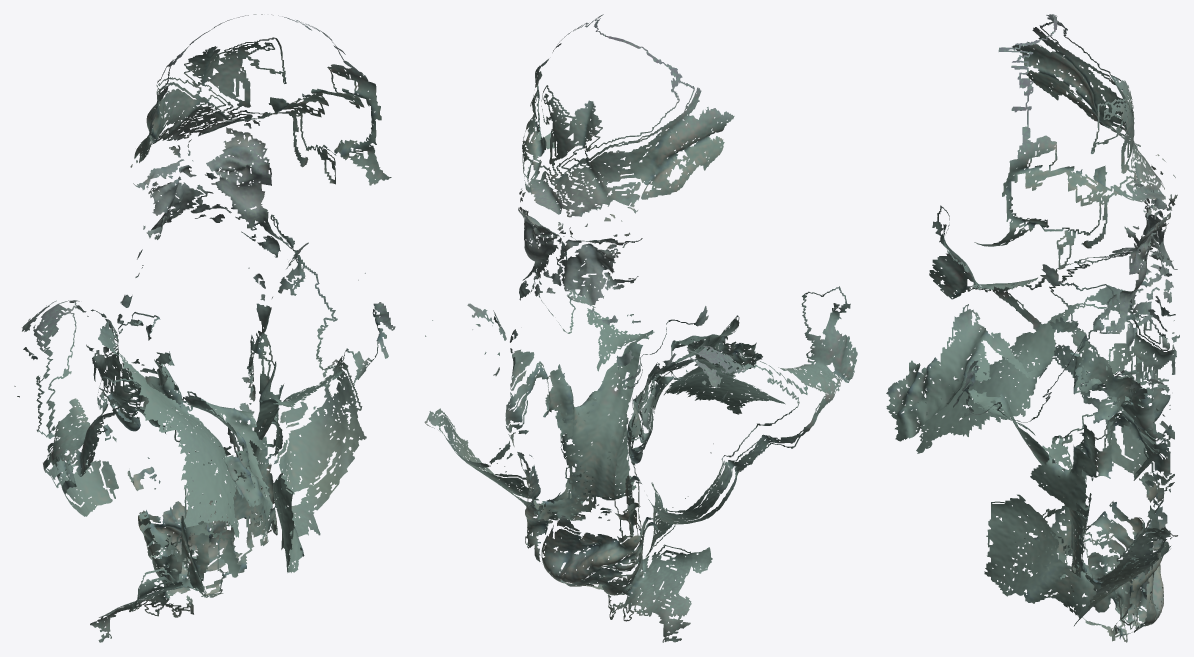
The model's file is cthulhu17_material_0.013_lev1.glb.
3 views of the same model, side by side, from view 1: azimuth 30°, elevation 25°; view 2: azimuth 150°, elevation 25°; view 3: azimuth 270°, elevation 25° (orthographic). The views are drawn at different scales.
Parts seen in each view (by area): view 1: cthulhu17_material_0.013_lev1; view 2: cthulhu17_material_0.013_lev1; view 3: cthulhu17_material_0.013_lev1.
Boxes of the visible parts, x1,y1,x2,y2 form: cthulhu17_material_0.013_lev1: (14,14,395,642); cthulhu17_material_0.013_lev1: (424,14,857,642); cthulhu17_material_0.013_lev1: (886,14,1179,642).
Bounding box in the file's own units: 2.36 × 3.7 × 1.54.
